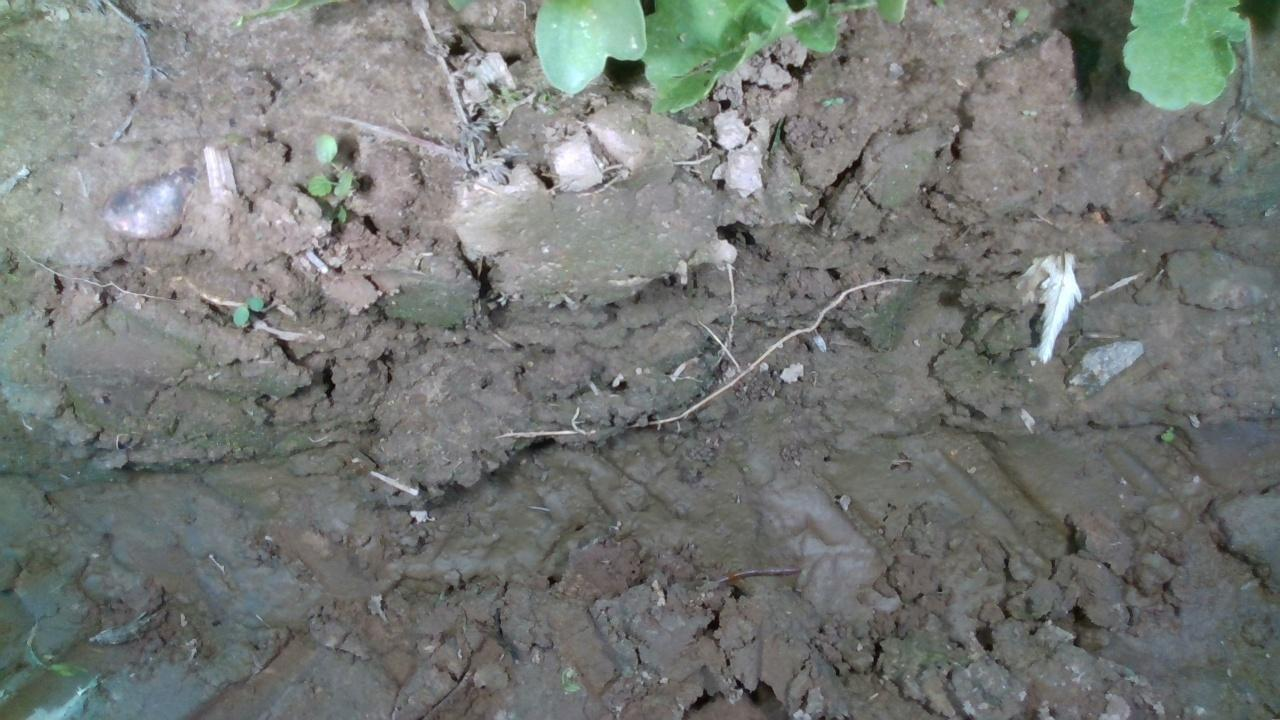weed: (229, 291, 265, 328)
